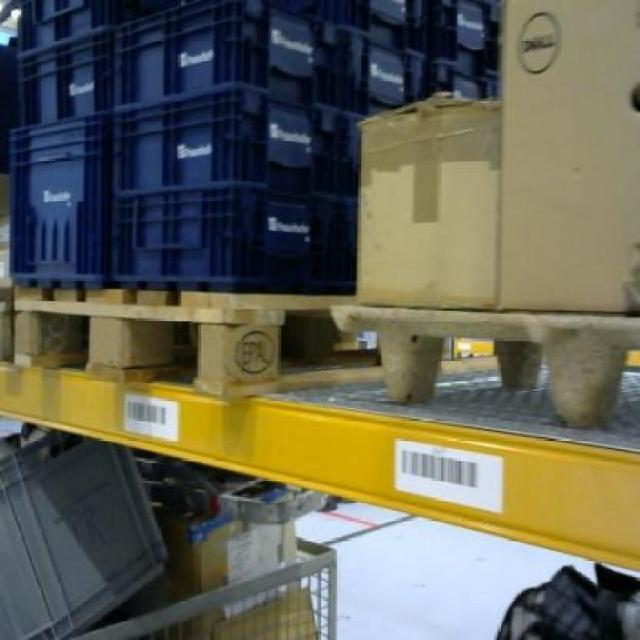box: (500, 0, 636, 315), (355, 92, 497, 310)
